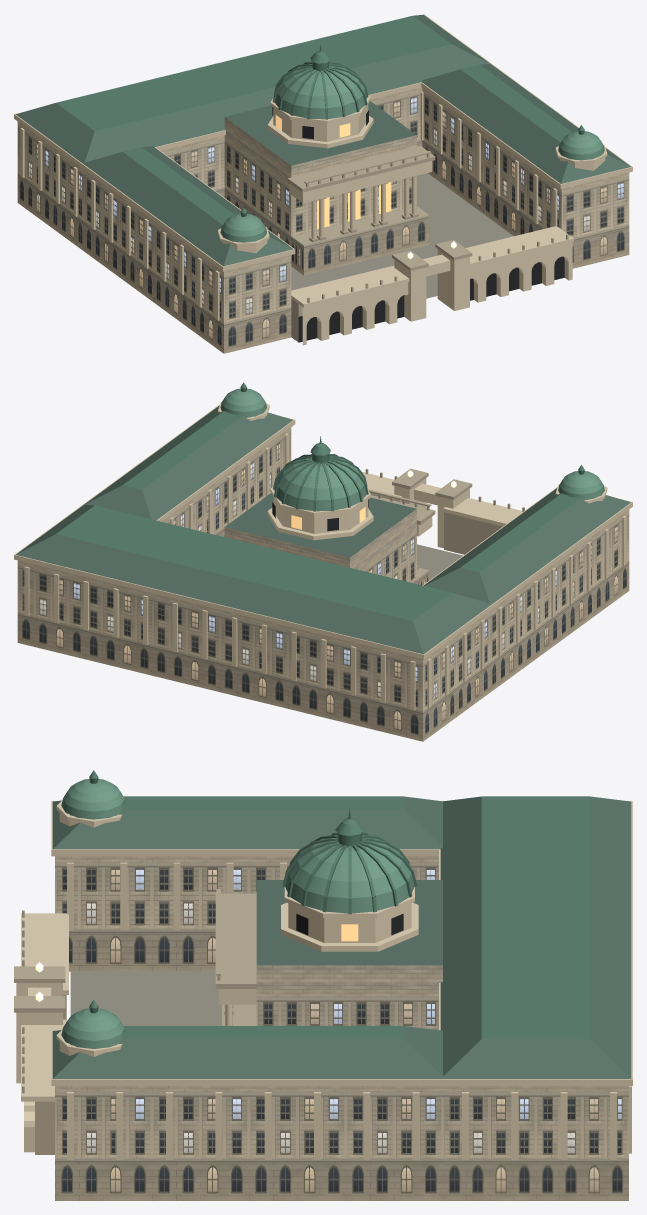
File: bank_of_japan.glb
3 renders of one model, top to bottom at view 1: azimuth 30°, elevation 25°; view 2: azimuth 150°, elevation 25°; view 3: azimuth 270°, elevation 25°, orthographic. The views are drawn at different scales.
Visible parts, largest first — view 1: bank_of_japan; view 2: bank_of_japan; view 3: bank_of_japan.
Boxes of the visible parts, left/top/right/bottom form: bank_of_japan: left=14, top=14, right=632, bottom=353; bank_of_japan: left=14, top=382, right=632, bottom=741; bank_of_japan: left=14, top=770, right=632, bottom=1200.
Bounding box in the file's own units: 85 × 36.4 × 79.8.
Materials: 2 (2 with a texture image).
